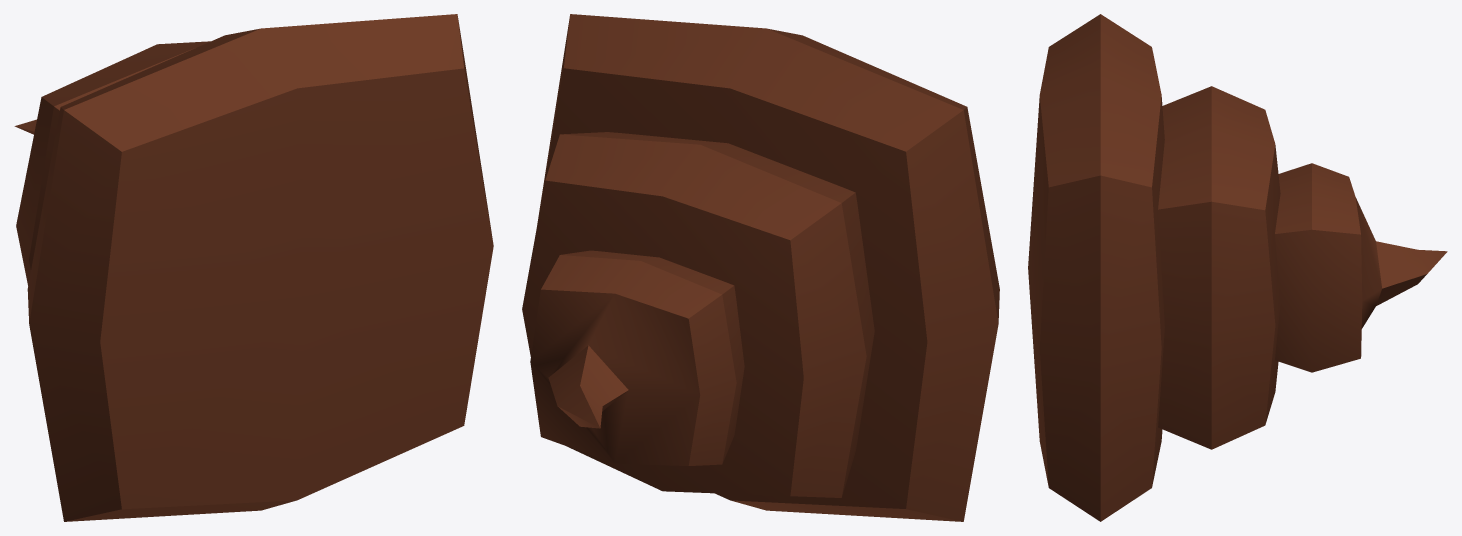
Rendered from Head 06.FBX.
The picture shows the model from 3 angles, left to right: view 1: azimuth 30°, elevation 25°; view 2: azimuth 150°, elevation 25°; view 3: azimuth 270°, elevation 25°; orthographic projection. The views are drawn at different scales.
Parts seen in each view (by area): view 1: Head 06; view 2: Head 06; view 3: Head 06.
Part boxes in pixels (box(x1,y1,x2,y2)): Head 06: box(14, 14, 493, 521); Head 06: box(522, 14, 999, 521); Head 06: box(1028, 14, 1447, 521).
Size of the model in its own units: 86.36 by 86.62 by 81.29.
Materials: 1 (1 with a texture image).
